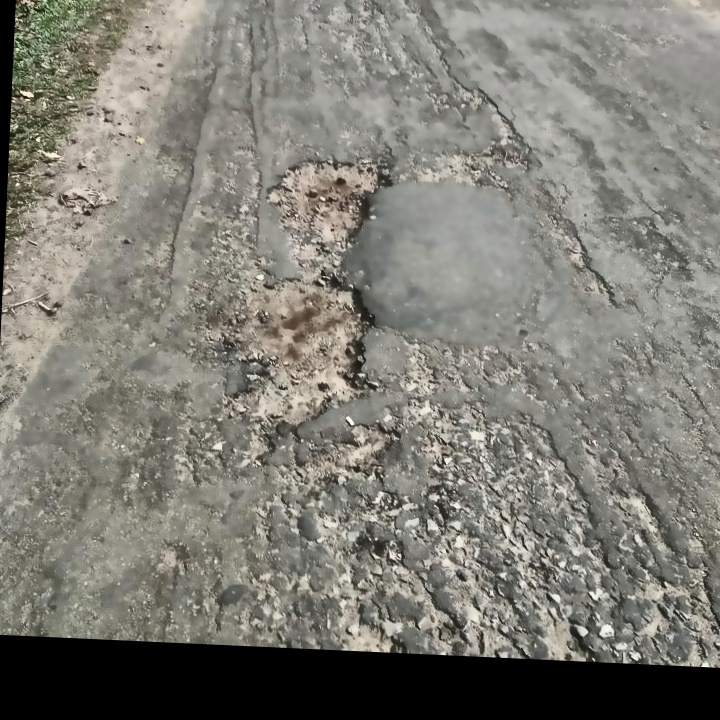pothole: (211, 268, 383, 439), (259, 147, 398, 262)
